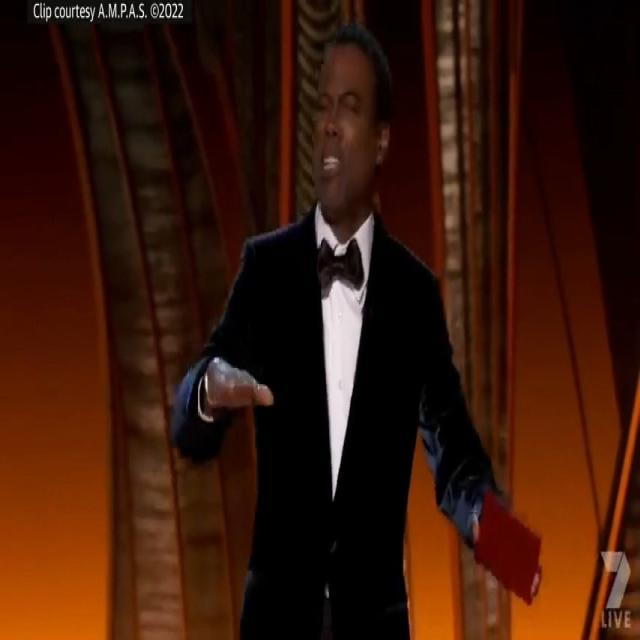non-fight: (164, 13, 539, 640)
